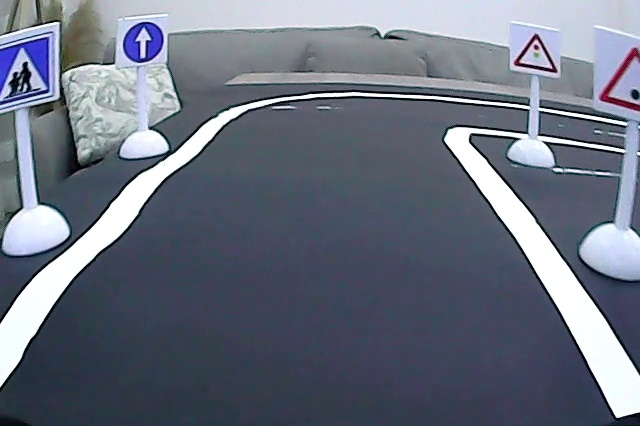green light: (596, 40, 640, 116)
red light: (509, 29, 562, 78)
school crossing: (1, 32, 56, 108)
